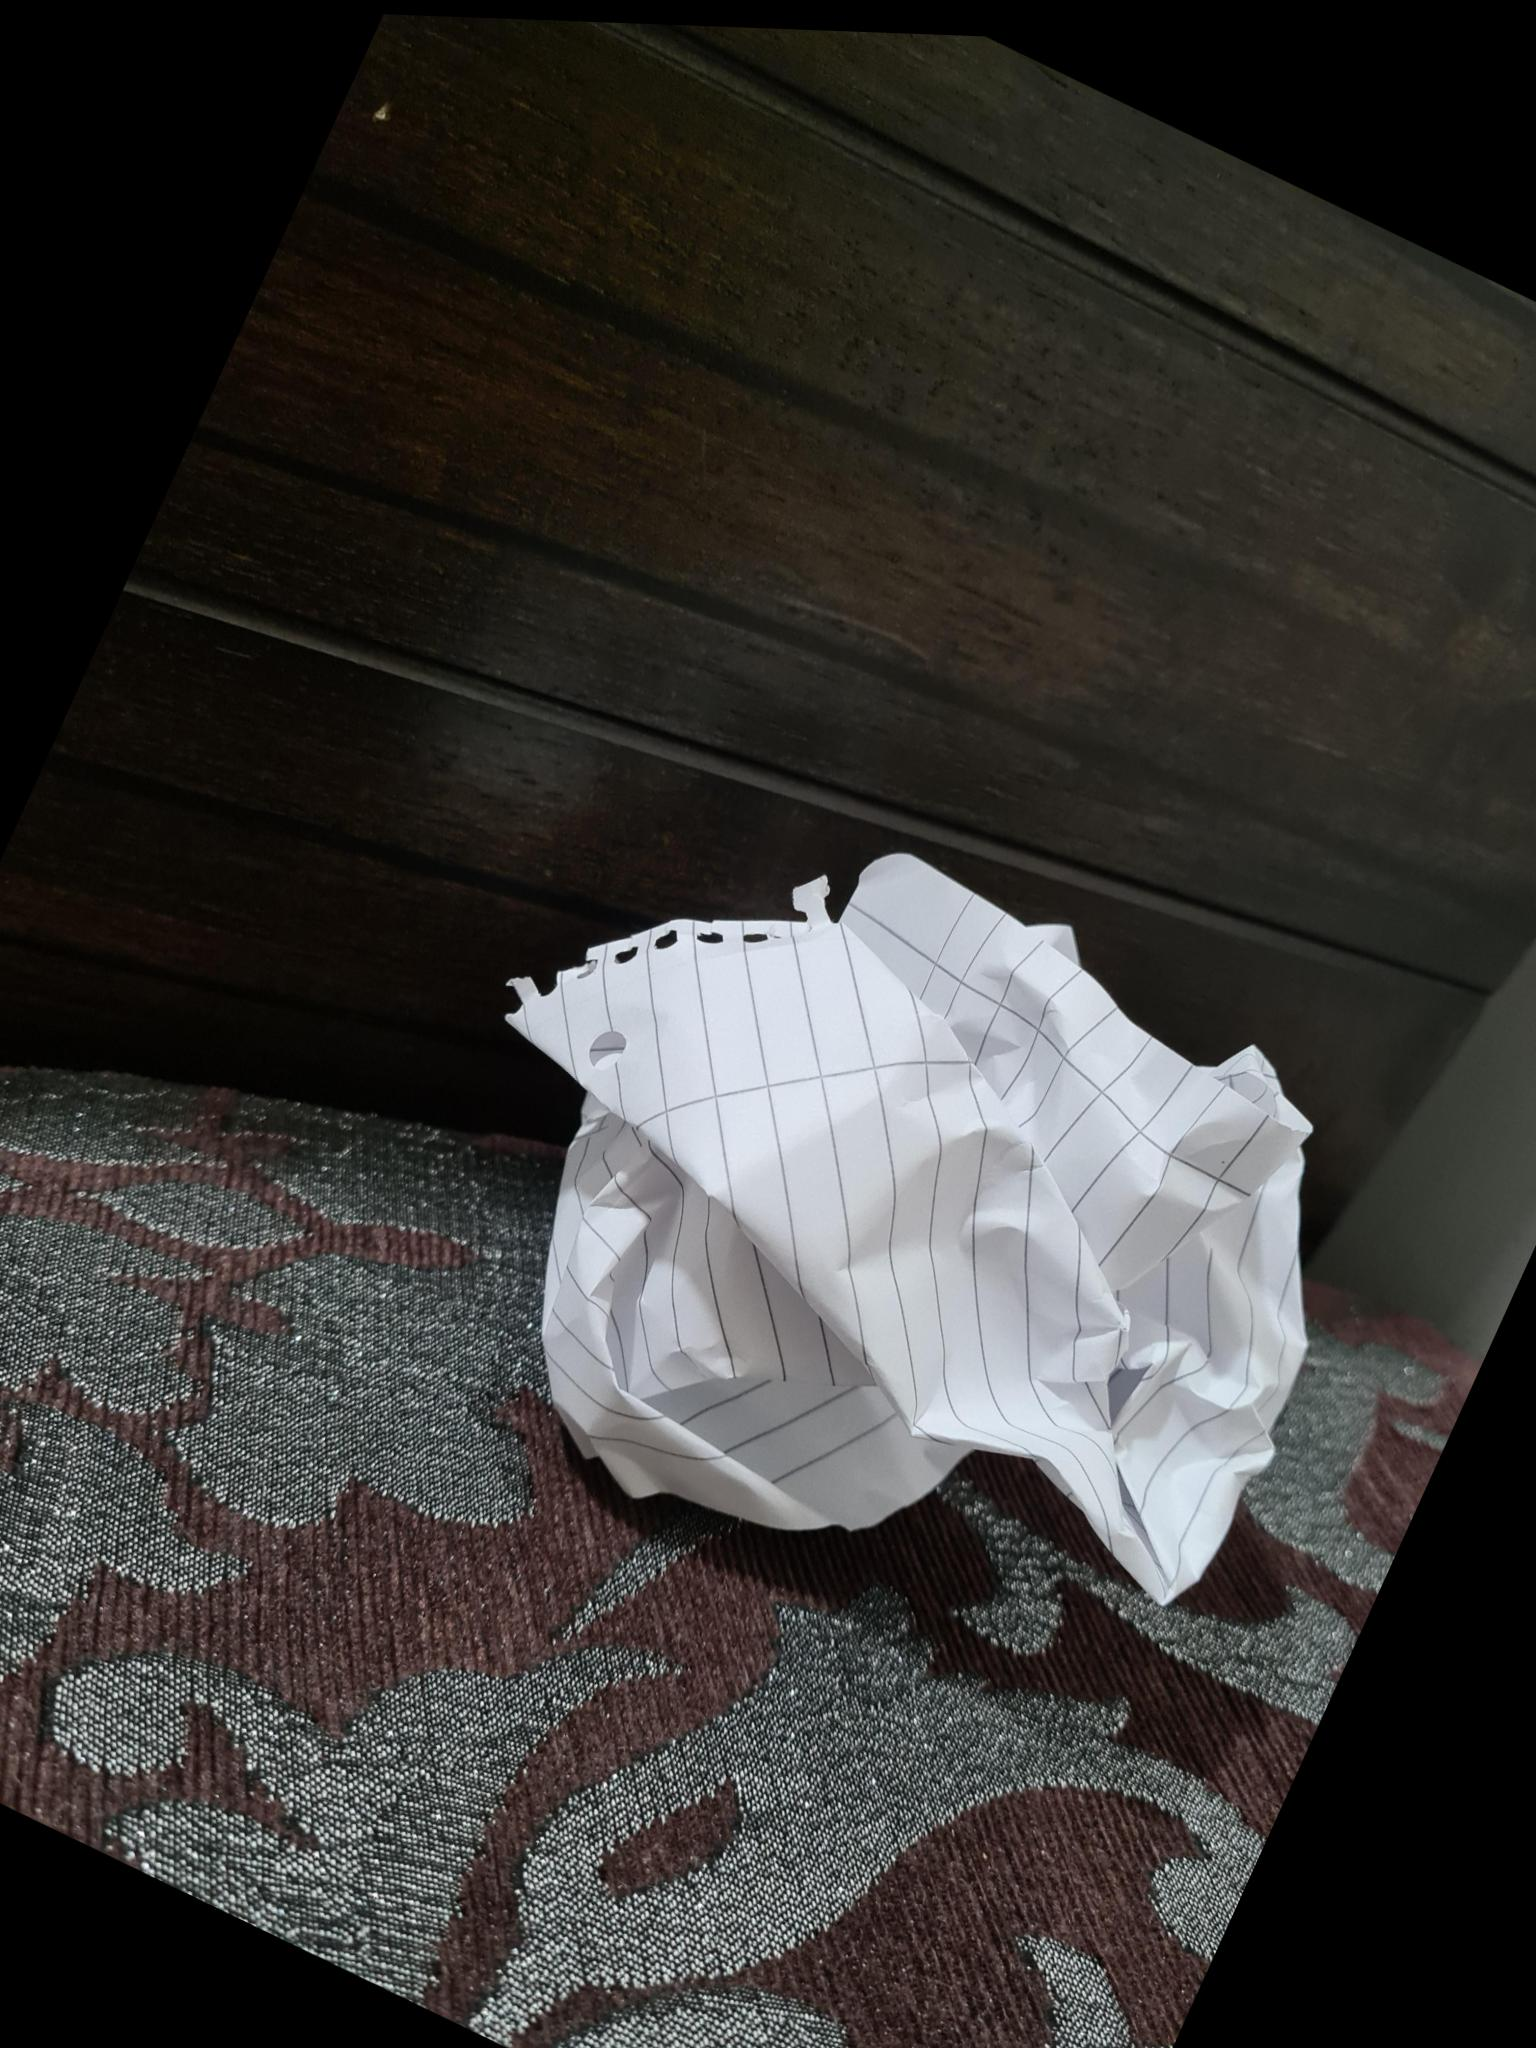paper: (515, 855, 1305, 1600)
